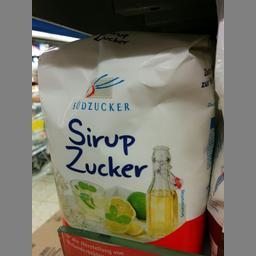sugar: (36, 28, 214, 254)
